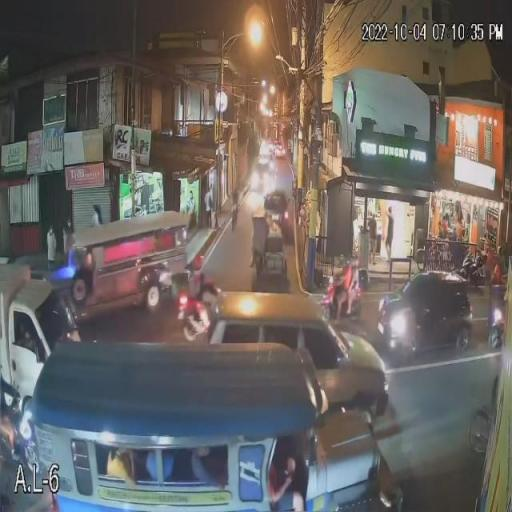helmet: (334, 250, 351, 270), (349, 255, 366, 270)
motorcycle: (318, 276, 370, 321)
rider: (334, 264, 353, 320), (343, 268, 363, 319)
